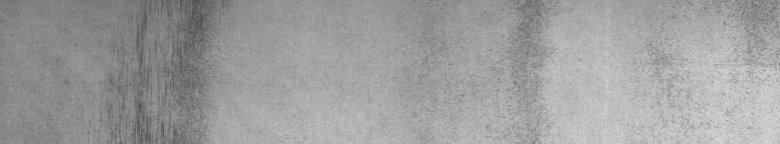ka: (104, 4, 204, 136)
